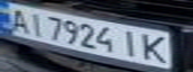2: (78, 20, 96, 51)
4: (93, 24, 118, 54)
7: (42, 13, 66, 42)
9: (60, 17, 81, 46)
A: (3, 6, 33, 34)
I: (115, 28, 145, 58), (24, 10, 48, 37)
K: (136, 31, 175, 64)
